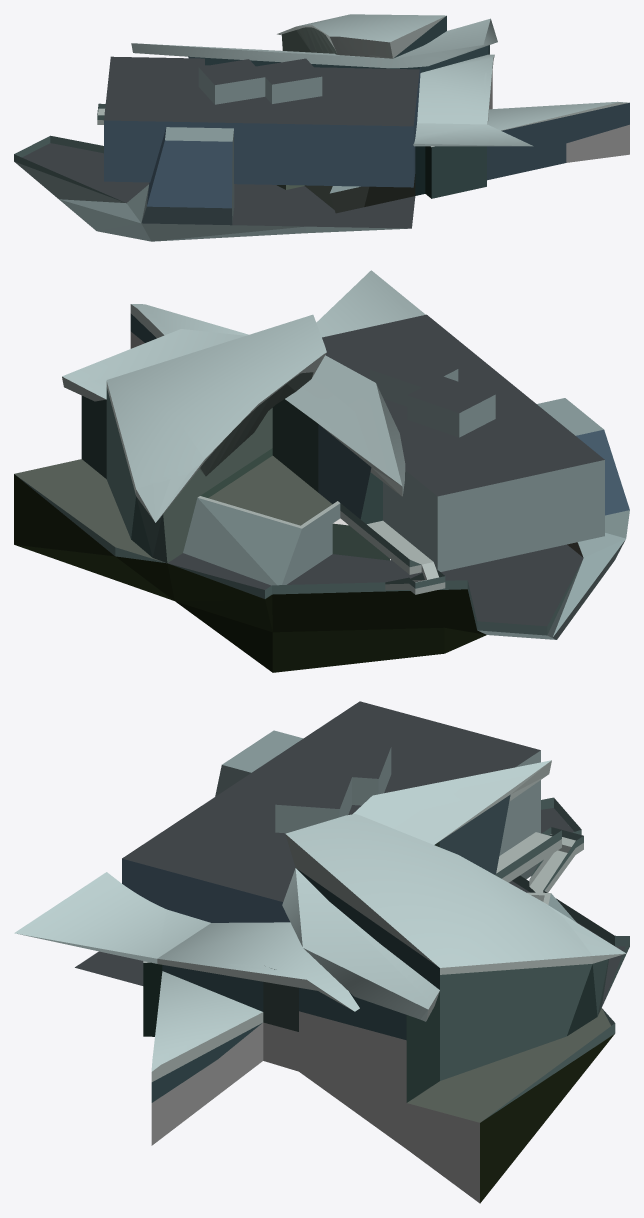
The model's file is the-hunter-museum-of-american-art.glb.
The picture shows the model from 3 angles, top to bottom: view 1: azimuth 30°, elevation 25°; view 2: azimuth 150°, elevation 25°; view 3: azimuth 270°, elevation 25°; orthographic projection. The views are drawn at different scales.
Visible parts, largest first — view 1: LOD0; view 2: LOD0; view 3: LOD0.
Part boxes in pixels (box(x1,y1,x2,y2)): LOD0: box(14, 14, 629, 241); LOD0: box(14, 270, 629, 672); LOD0: box(14, 701, 629, 1203).
Size of what is drawn, in the model's own units: 61.97 by 23.34 by 48.87.
2 materials, 2 textured.
